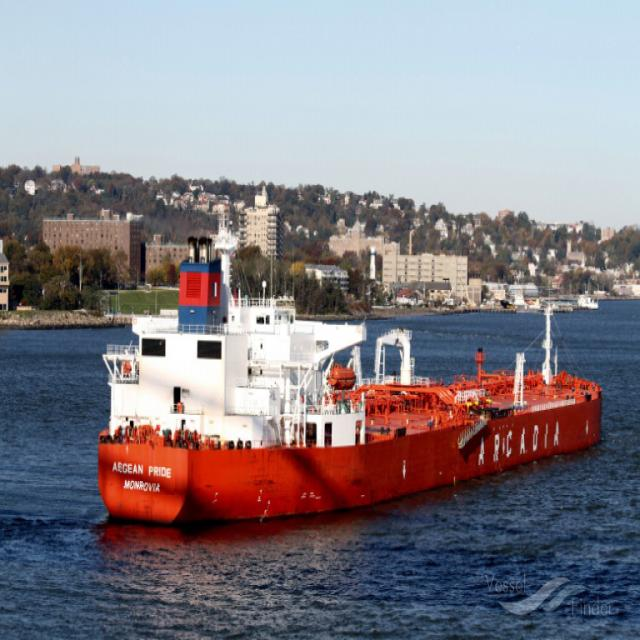OCR: (469, 425, 566, 469), (109, 451, 175, 495)
